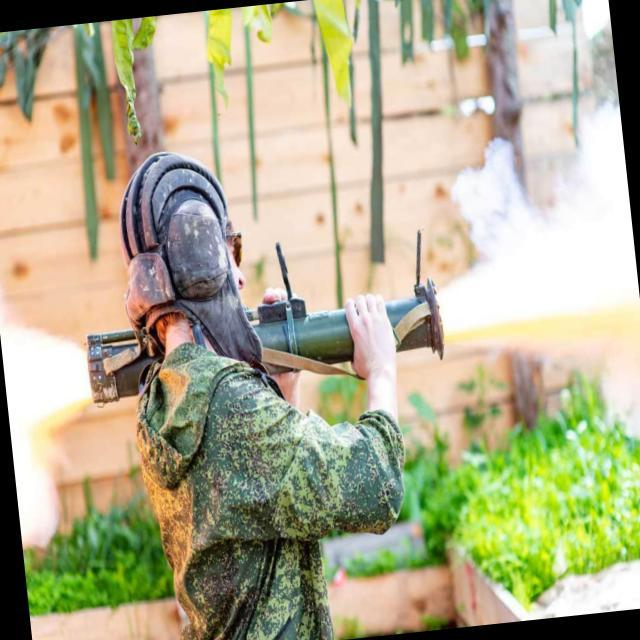rocket: (79, 280, 448, 416)
